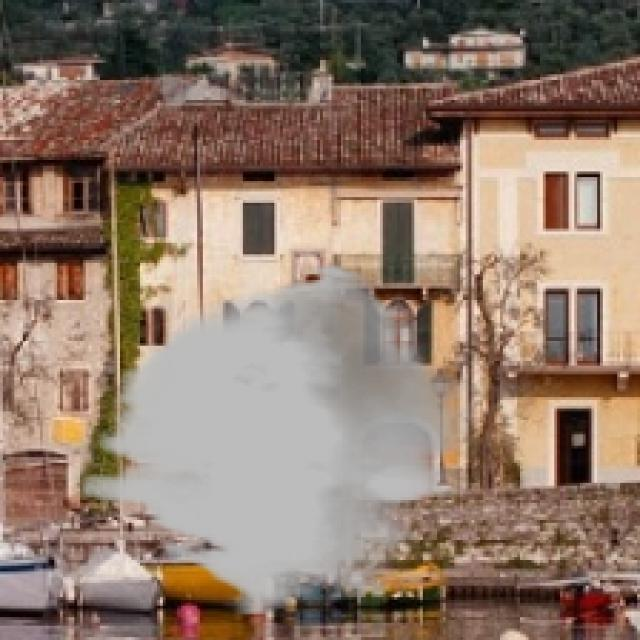Smoke: (82, 262, 472, 618)
